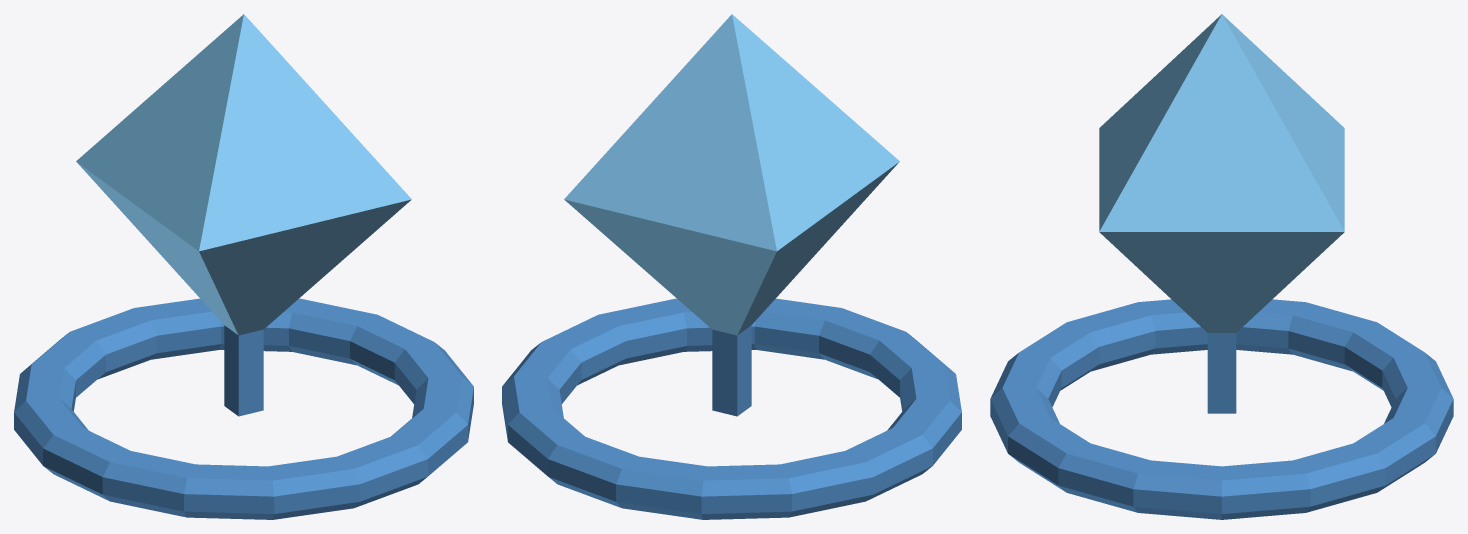
File: game-ui-icon-library-waypoint-diamond-3935f3e8__19036.glb
3 renders of one model, left to right at view 1: azimuth 30°, elevation 25°; view 2: azimuth 150°, elevation 25°; view 3: azimuth 270°, elevation 25°, orthographic.
Parts seen in each view (by area): view 1: waypoint-diamond; view 2: waypoint-diamond; view 3: waypoint-diamond.
Boxes of the visible parts, bbox=[...] form: waypoint-diamond: bbox=[14, 14, 473, 519]; waypoint-diamond: bbox=[502, 14, 961, 519]; waypoint-diamond: bbox=[990, 14, 1453, 519].
Size of the model in its own units: 0.8 by 0.7875 by 0.8.
